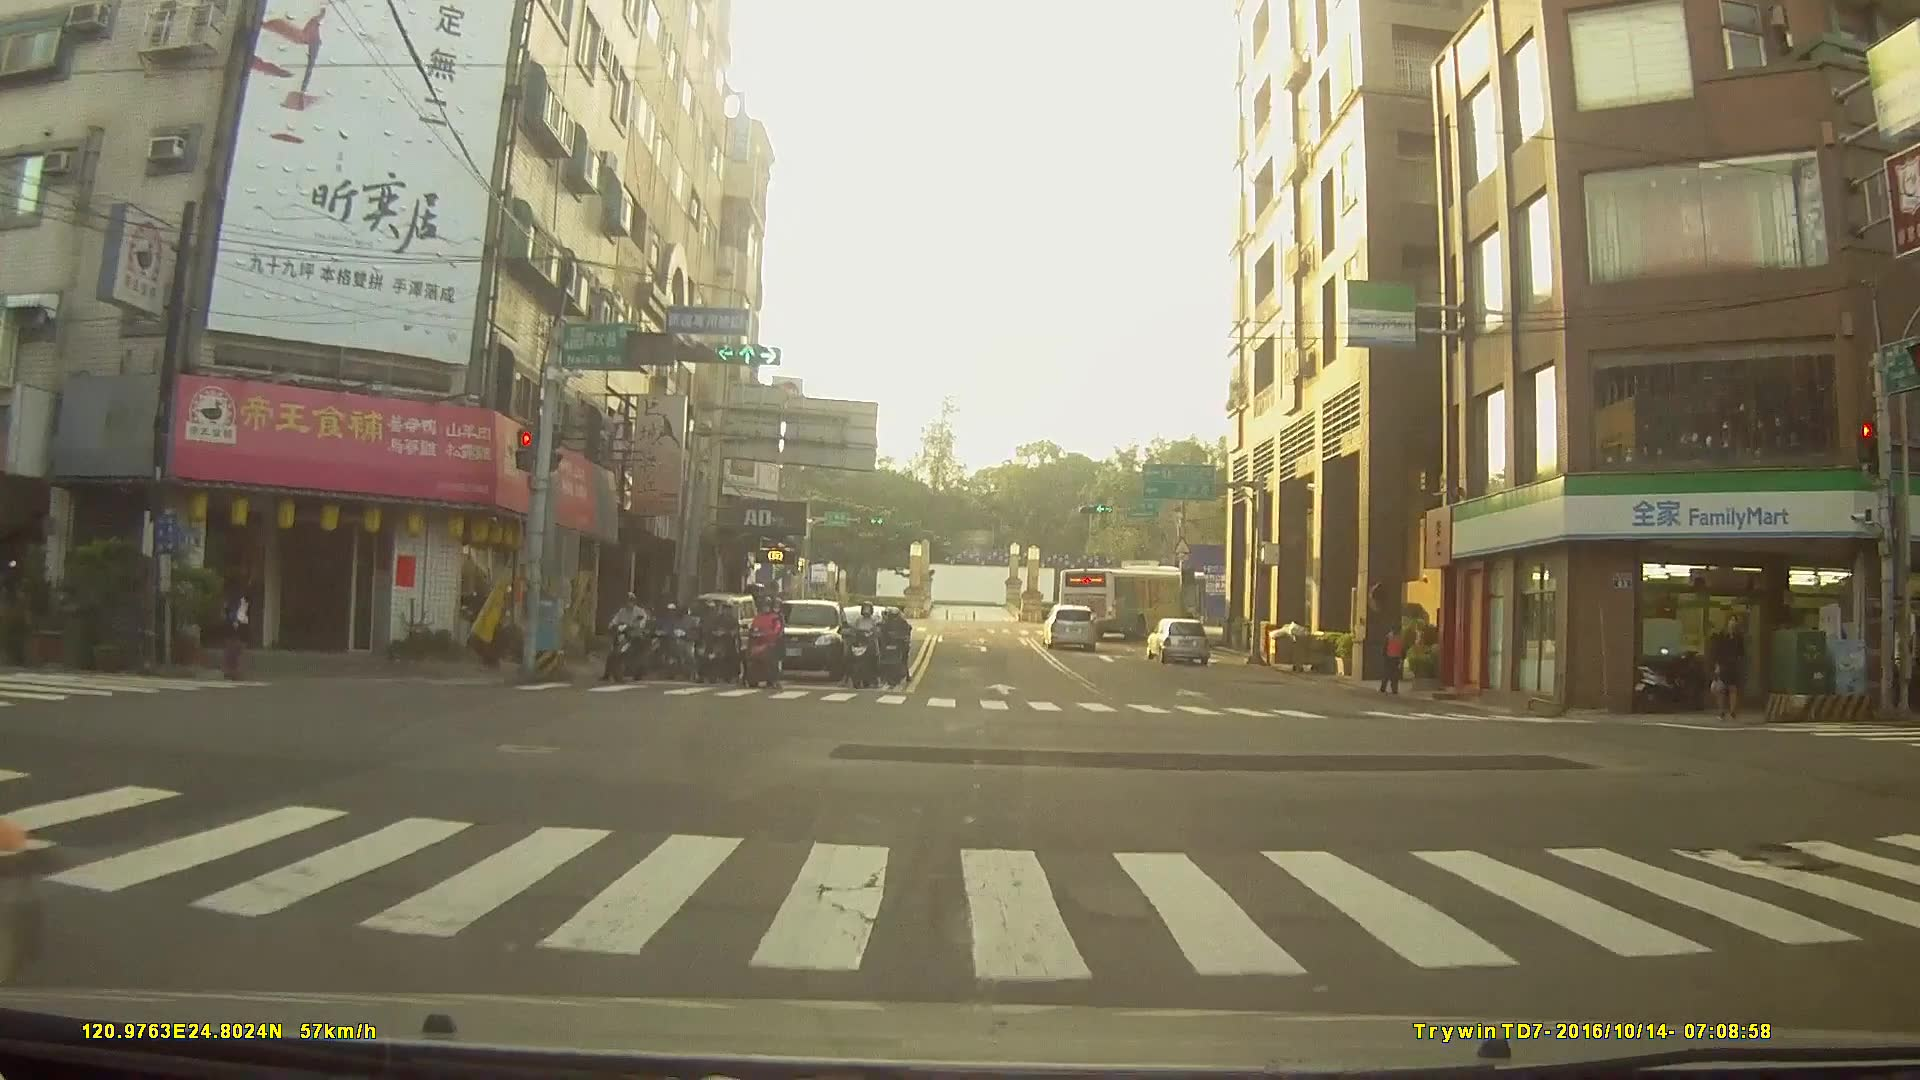pedestrian: (216, 576, 260, 688), (1710, 614, 1750, 725), (1377, 625, 1409, 696)
rider: (739, 590, 788, 692), (607, 591, 649, 687), (846, 599, 884, 689), (877, 606, 915, 688), (651, 600, 690, 679), (700, 601, 736, 683)
vehicle: (1054, 563, 1205, 636), (753, 597, 849, 680), (1143, 615, 1212, 663), (1041, 603, 1098, 652)
